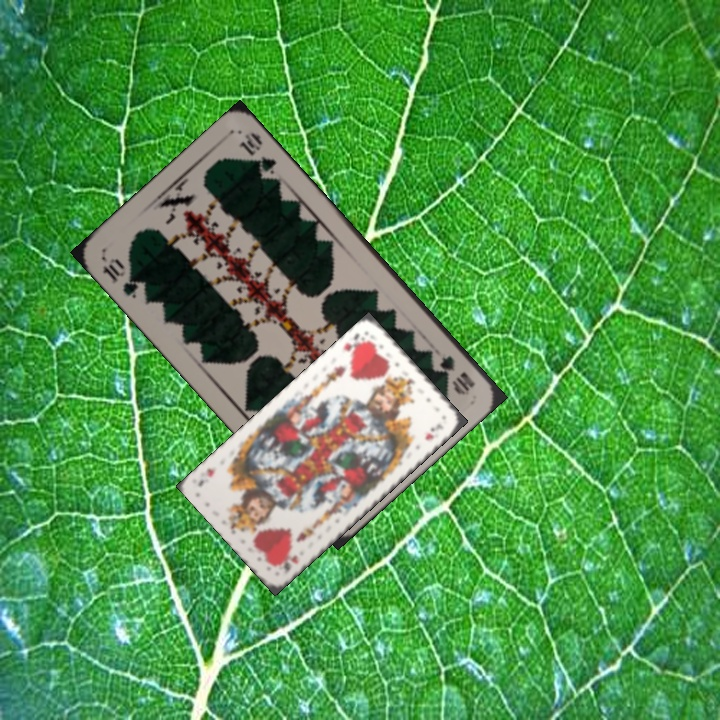G10: (98, 254, 142, 302), (435, 351, 478, 398)
HK: (339, 329, 371, 358), (279, 550, 301, 576)
